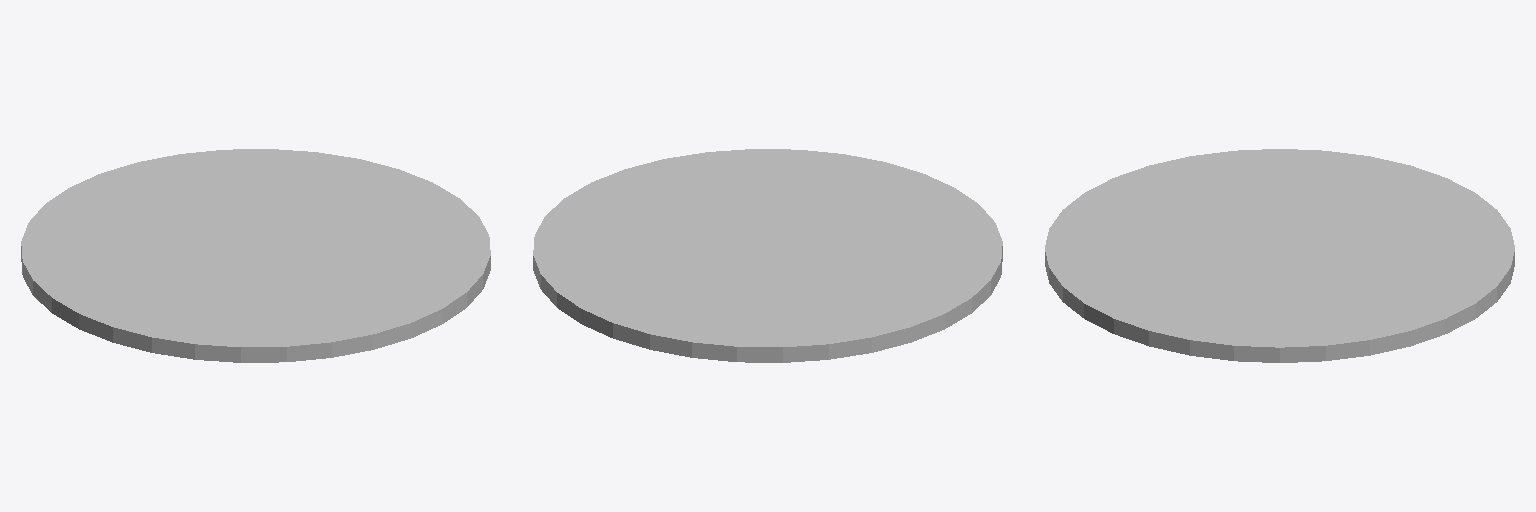
The model's file is hatchetground.obj.
3 views of the same model, side by side, from view 1: azimuth 30°, elevation 25°; view 2: azimuth 150°, elevation 25°; view 3: azimuth 270°, elevation 25° (orthographic).
Visible parts, largest first — view 1: Cylinder; view 2: Cylinder; view 3: Cylinder.
Part boxes in pixels (x1,y1,x2,y2): Cylinder: (21,149,490,362); Cylinder: (533,149,1002,362); Cylinder: (1045,149,1514,362).
Size of the model in its own units: 61.86 by 2.26 by 61.86.